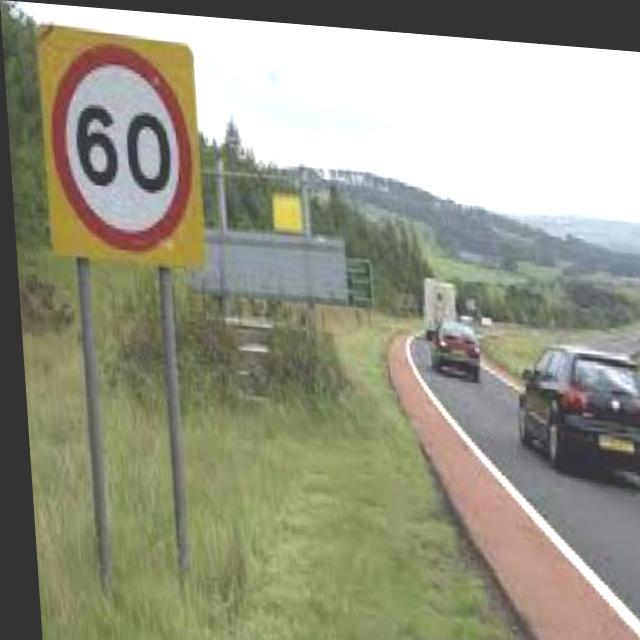limit60: (47, 38, 198, 253)
